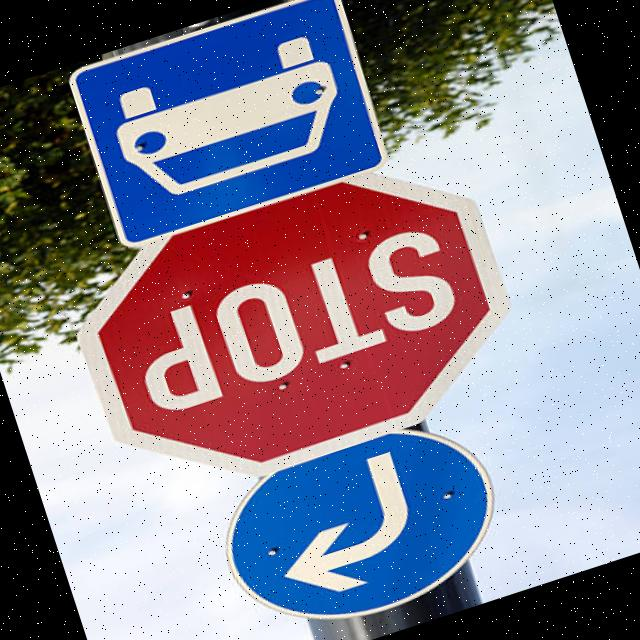stop: (51, 134, 554, 518)
